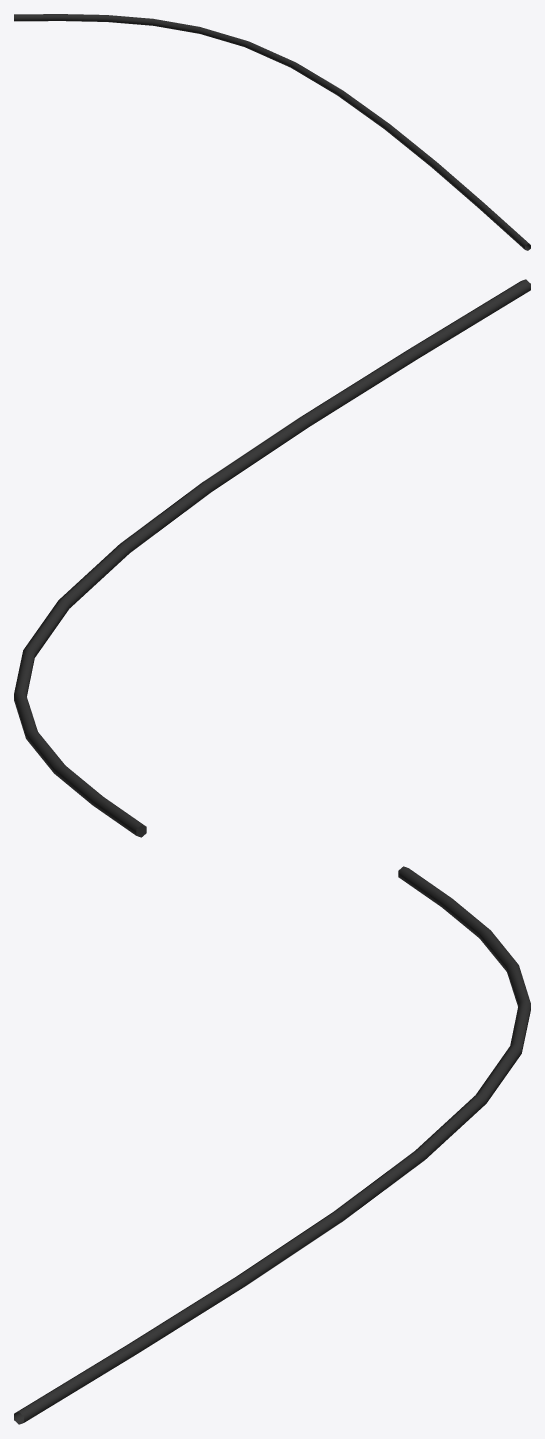
File: SM_Stage_Final_Wire_botton_07.fbx
3 views of the same model, one above another, from view 1: azimuth 30°, elevation 25°; view 2: azimuth 150°, elevation 25°; view 3: azimuth 330°, elevation 25° (orthographic). The views are drawn at different scales.
Parts seen in each view (by area): view 1: SM_Stage_Final_Wire_botton_07; view 2: SM_Stage_Final_Wire_botton_07; view 3: SM_Stage_Final_Wire_botton_07.
Boxes of the visible parts, x1,y1,x2,y2 form: SM_Stage_Final_Wire_botton_07: (14,14,530,250); SM_Stage_Final_Wire_botton_07: (14,279,530,837); SM_Stage_Final_Wire_botton_07: (14,866,530,1424).
Bounding box in the file's own units: 51.3 × 2 × 188.
1 material, 1 textured.
